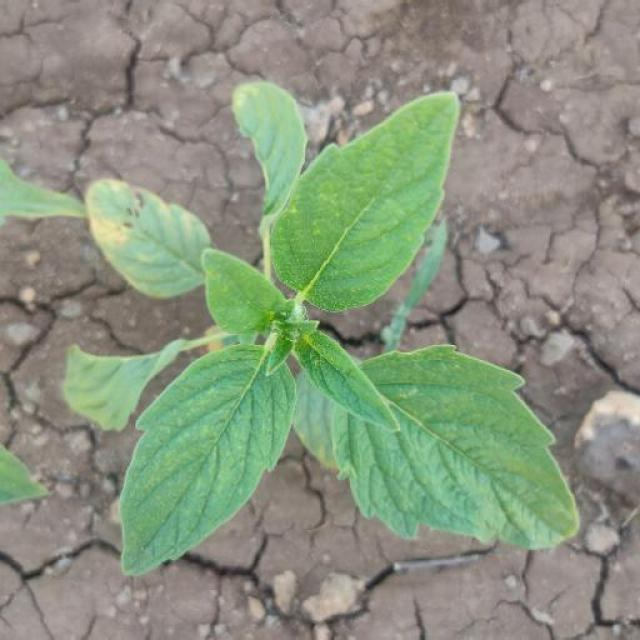crop: (78, 105, 582, 569)
